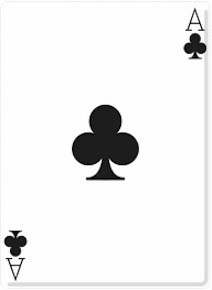AceOfClubs: (5, 2, 212, 288)
